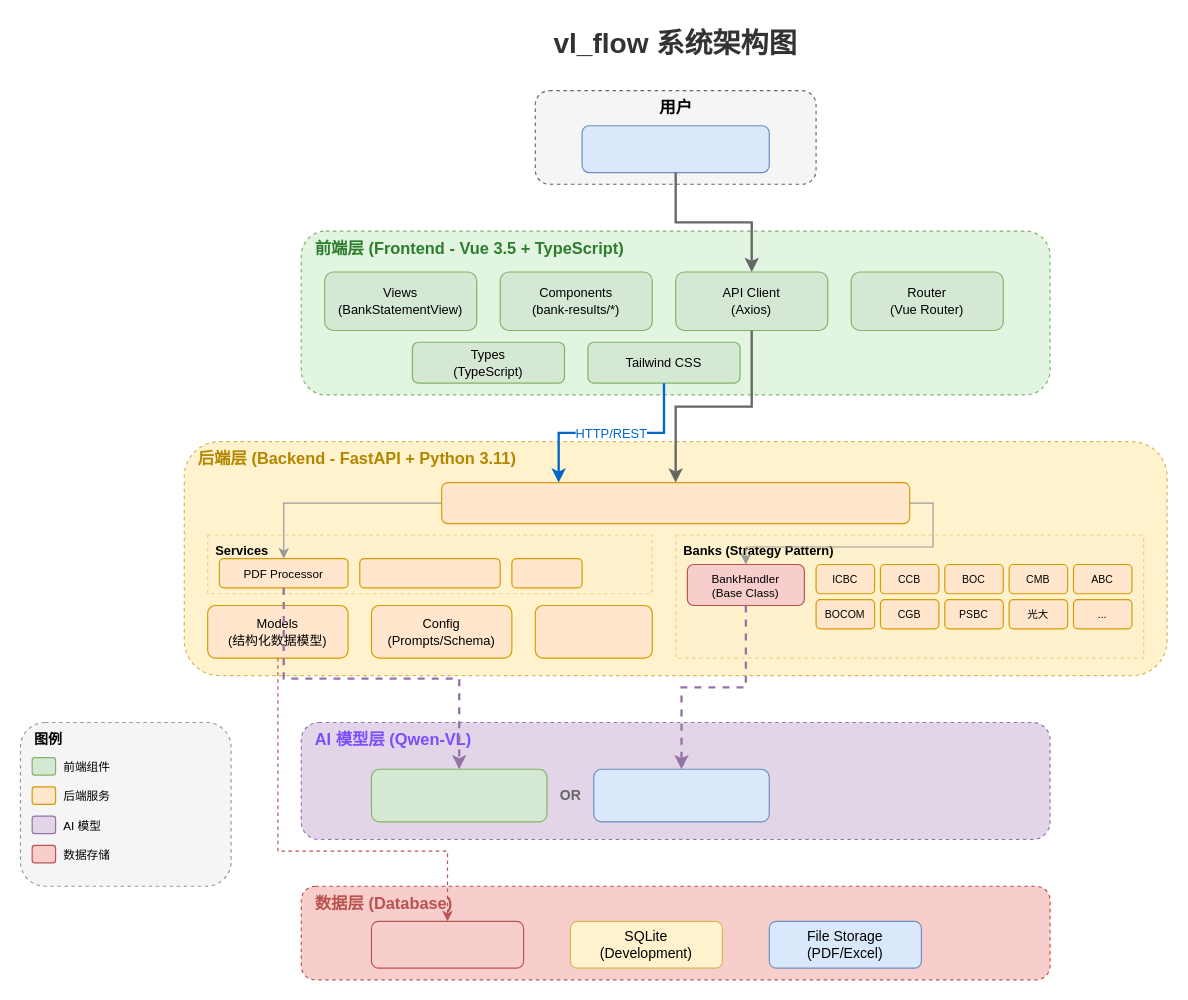
The diagram is 1188 pixels wide and 1000 high, and some of its shapes have lost their labels. Each missing label, with the box of its shape:
API Layer (main.py / api.py): (441, 481, 910, 524)
Contract Processor: (359, 558, 500, 588)
Core: (511, 558, 582, 588)
DashScope API (阿里云): (593, 768, 769, 822)
JSON Repair: (534, 604, 652, 658)
PostgreSQL (Production): (370, 920, 524, 968)
Qwen-VL (本地部署): (370, 768, 547, 822)
浏览器 Web Browser: (581, 125, 769, 173)
